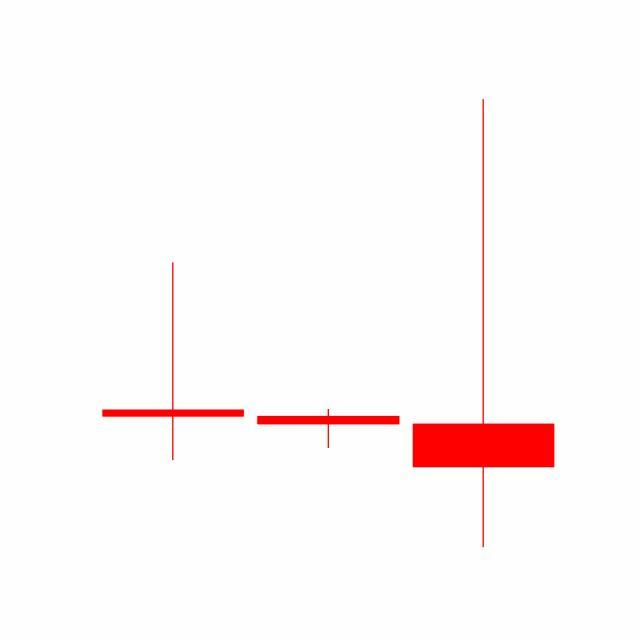Dragonfly Doji: (250, 410, 407, 451)
